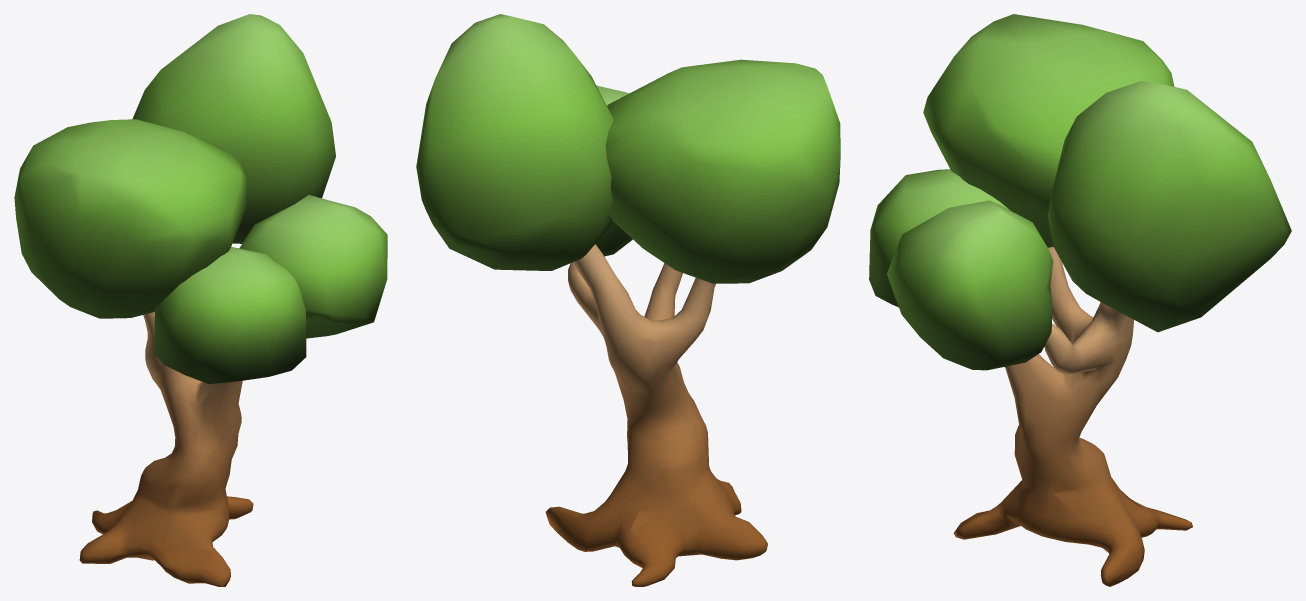
The model's file is Tree1 B1G2.fbx.
3 views of the same model, side by side, from view 1: azimuth 30°, elevation 25°; view 2: azimuth 150°, elevation 25°; view 3: azimuth 270°, elevation 25° (orthographic). The views are drawn at different scales.
Visible parts, largest first — view 1: Tree1 Leaves.004, Tree1 Leaves.007, Tree1 B1, Tree1 Leaves.005, Tree1 Leaves.006; view 2: Tree1 Leaves.004, Tree1 Leaves.007, Tree1 B1, Tree1 Leaves.006; view 3: Tree1 Leaves.007, Tree1 Leaves.004, Tree1 B1, Tree1 Leaves.006, Tree1 Leaves.005.
Boxes of the visible parts, x1,y1,x2,y2 form: Tree1 Leaves.004: [14, 119, 246, 318]; Tree1 Leaves.007: [132, 14, 335, 243]; Tree1 B1: [79, 312, 253, 586]; Tree1 Leaves.005: [154, 247, 306, 384]; Tree1 Leaves.006: [239, 195, 387, 338]; Tree1 Leaves.004: [605, 59, 840, 283]; Tree1 Leaves.007: [416, 14, 613, 270]; Tree1 B1: [545, 244, 767, 586]; Tree1 Leaves.006: [595, 85, 632, 256]; Tree1 Leaves.007: [1047, 81, 1291, 332]; Tree1 Leaves.004: [923, 14, 1174, 247]; Tree1 B1: [953, 247, 1192, 586]; Tree1 Leaves.006: [887, 200, 1053, 370]; Tree1 Leaves.005: [869, 169, 1009, 307].
Size of the model in its own units: 18.71 by 19.12 by 26.11.
